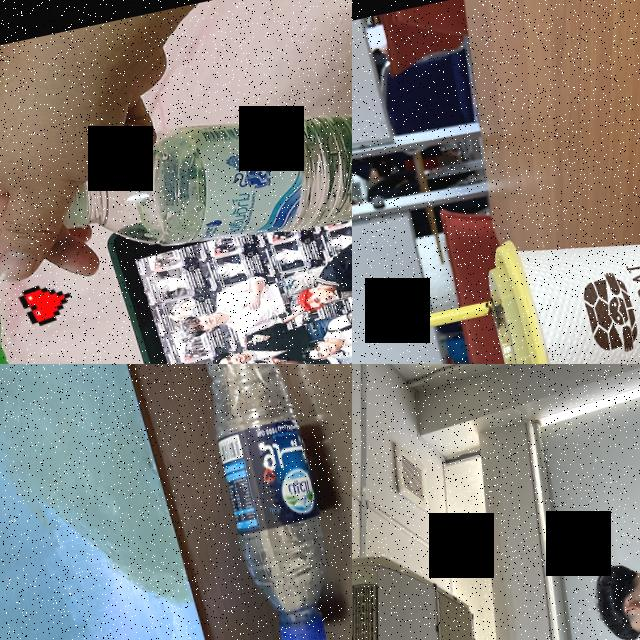bottle: (44, 41, 352, 296), (174, 364, 352, 640)
cup: (473, 197, 640, 364)
